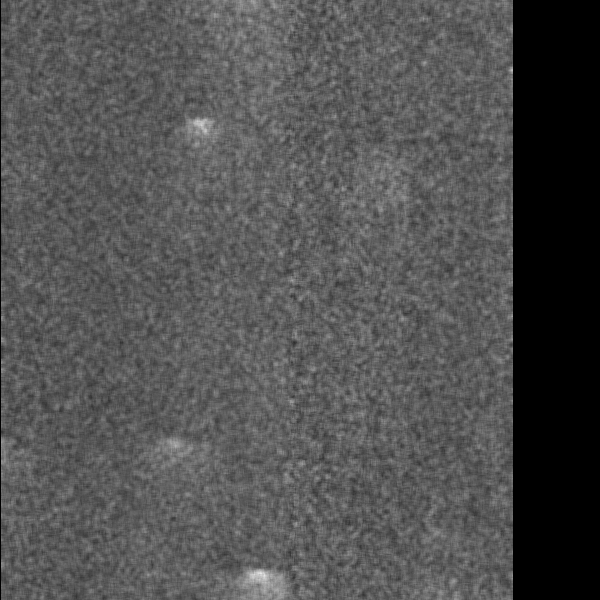spark: (154, 392, 222, 552), (6, 147, 67, 286), (270, 25, 302, 92), (287, 382, 321, 433), (224, 217, 254, 252), (78, 424, 111, 453)
